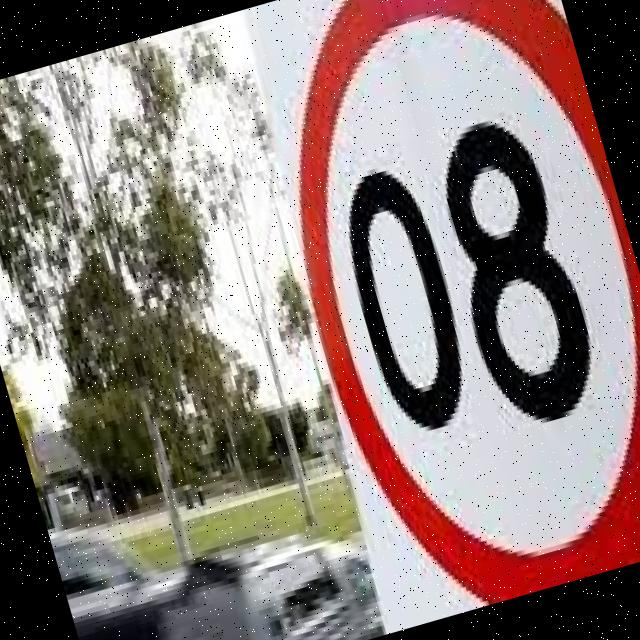speed_limit_80: (227, 0, 640, 629)
